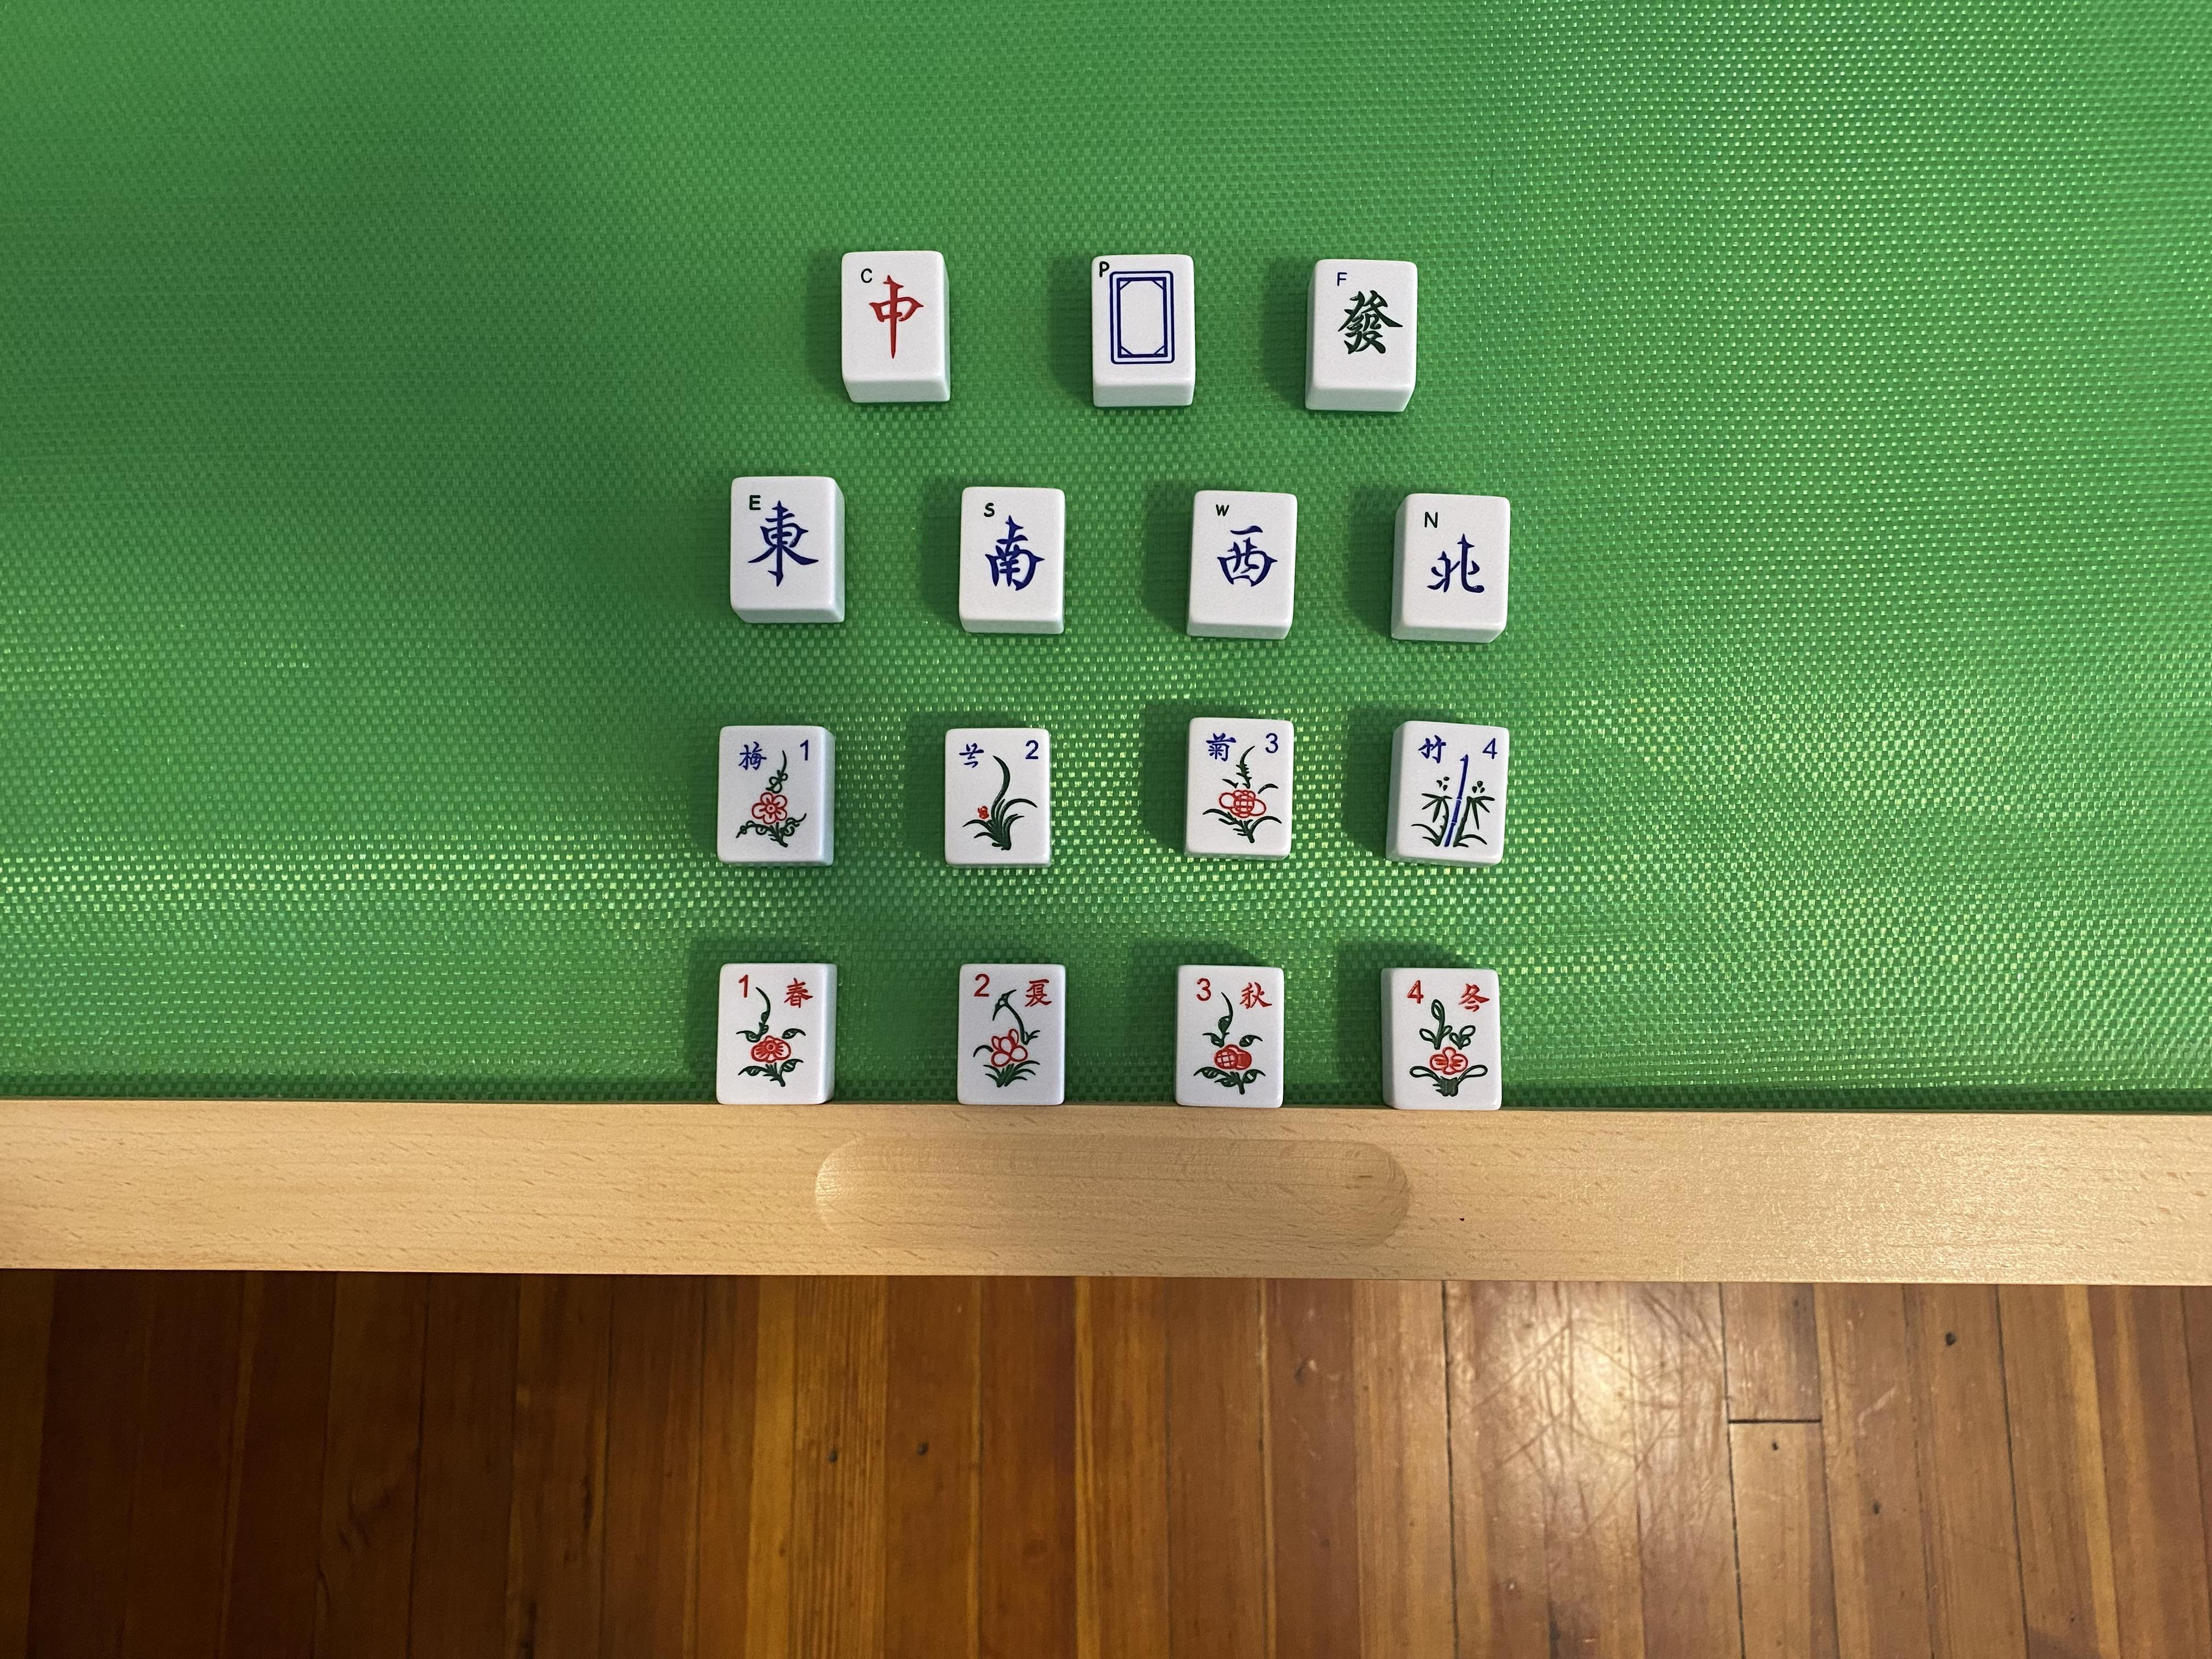flower-blue_four: (1407, 723, 1503, 859)
flower-blue_one: (719, 728, 822, 857)
flower-blue_three: (1190, 718, 1291, 850)
flower-blue_two: (948, 730, 1049, 863)
flower-red_four: (1395, 972, 1500, 1108)
flower-red_one: (719, 967, 826, 1100)
flower-red_three: (1179, 967, 1284, 1105)
flower-red_two: (960, 965, 1061, 1103)
honor-blue_dragon: (1092, 256, 1193, 383)
honor-east_wind: (732, 476, 831, 606)
honor-green_dragon: (1318, 263, 1414, 390)
honor-north_wind: (1409, 495, 1508, 624)
honor-red_dragon: (843, 254, 941, 378)
honor-south_wind: (965, 490, 1057, 617)
honor-west_wind: (1195, 493, 1291, 619)
